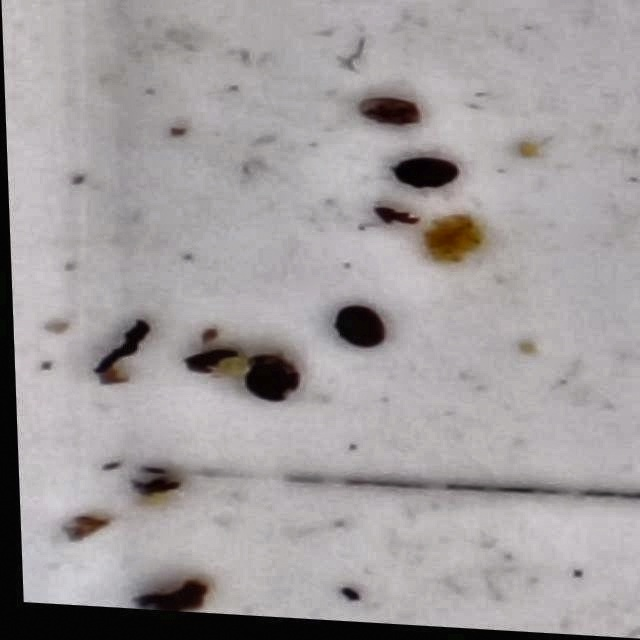varroa: (236, 358, 296, 406), (327, 305, 384, 355), (386, 159, 458, 196)
